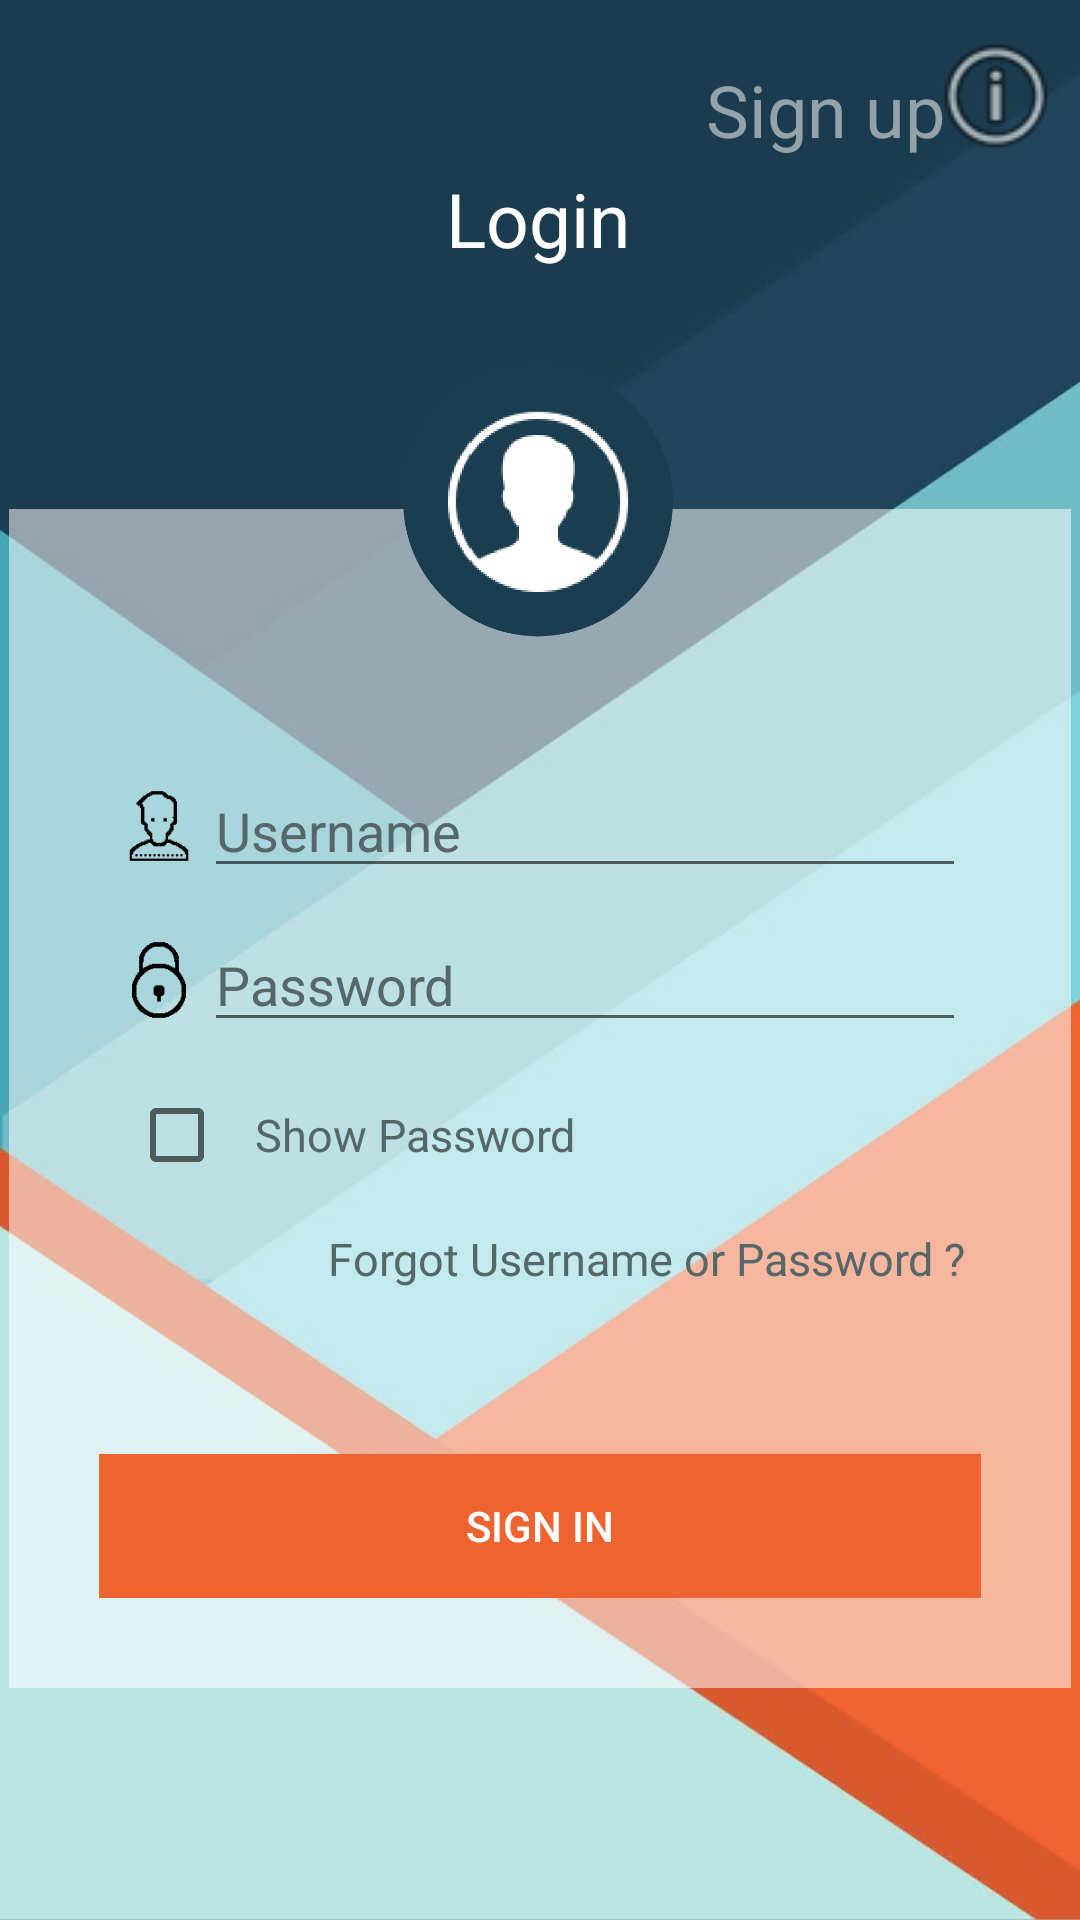

Screen size 1080 × 1920. Icon name, then its center in pixels as (x,y):
info details: (995,96)
lock: (159,980)
